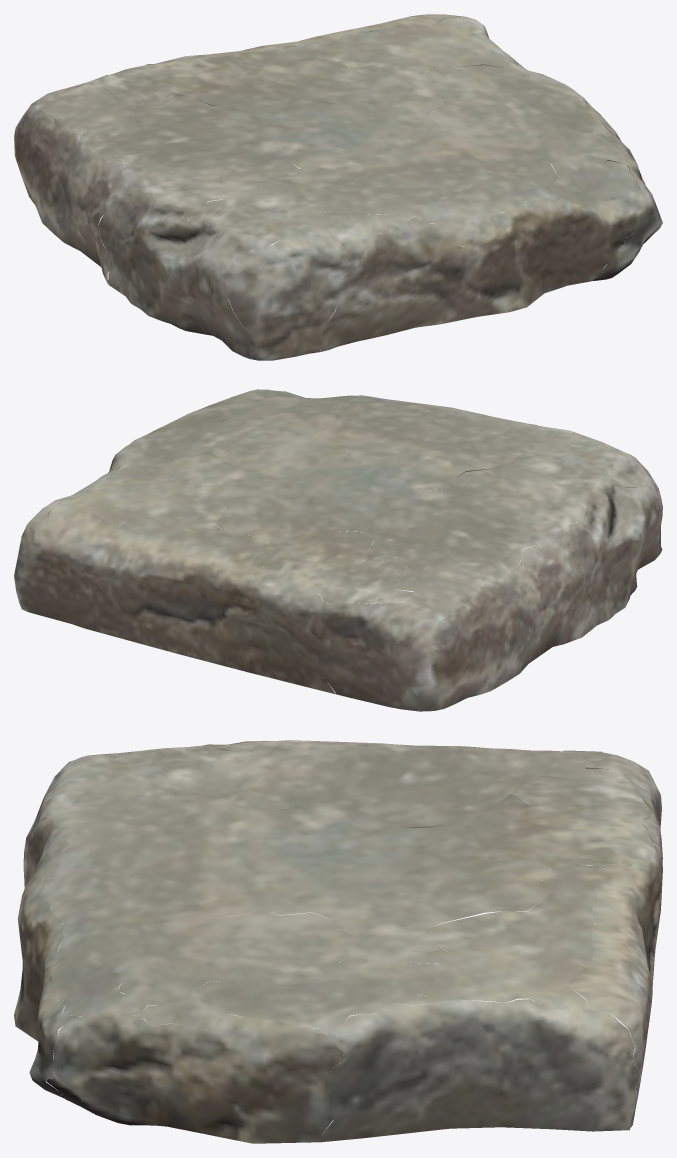
Rendered from Stepping_stones_6.glb.
3 views of the same model, one above another, from view 1: azimuth 30°, elevation 25°; view 2: azimuth 150°, elevation 25°; view 3: azimuth 270°, elevation 25° (orthographic). The views are drawn at different scales.
Visible parts, largest first — view 1: Object_2.004; view 2: Object_2.004; view 3: Object_2.004.
Part boxes in pixels (box(x1,y1,x2,y2)): Object_2.004: box(14, 14, 662, 360); Object_2.004: box(14, 389, 662, 711); Object_2.004: box(14, 740, 662, 1143).
Bounding box in the file's own units: 0.2605 × 0.0544 × 0.2388.
1 material, 1 textured.
